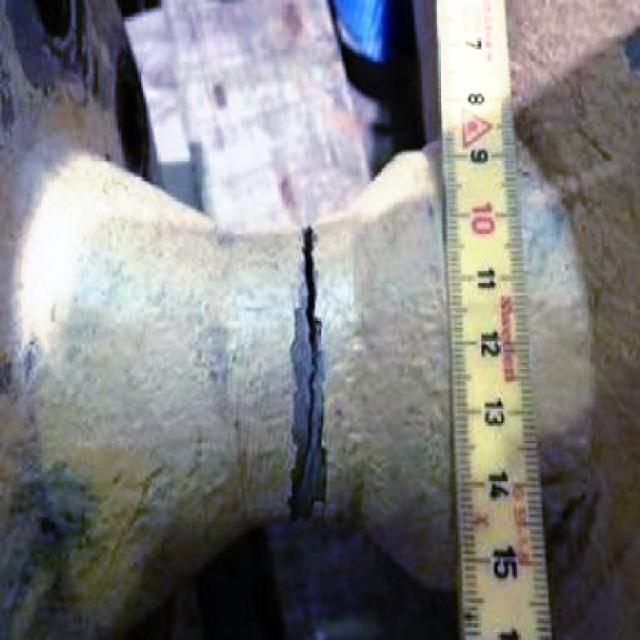crack: (303, 225, 320, 466)
